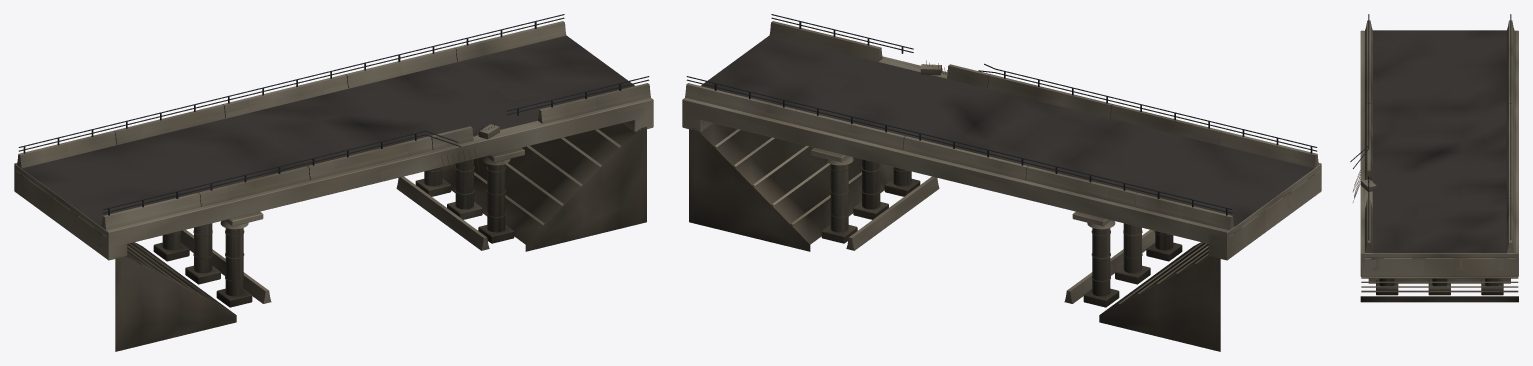
File: overpass_concrete.glb
The picture shows the model from 3 angles, left to right: view 1: azimuth 30°, elevation 25°; view 2: azimuth 150°, elevation 25°; view 3: azimuth 270°, elevation 25°; orthographic projection. The views are drawn at different scales.
Parts seen in each view (by area): view 1: concrete, road_surface, concrete_dark, metal_dark; view 2: concrete, road_surface, concrete_dark, metal_dark; view 3: road_surface, concrete, concrete_dark, metal_dark.
Part boxes in pixels (x1,y1,x2,y2): concrete: [14, 21, 653, 304]; road_surface: [21, 35, 634, 226]; concrete_dark: [115, 123, 646, 351]; metal_dark: [18, 14, 649, 215]; concrete: [682, 21, 1321, 304]; road_surface: [701, 35, 1314, 226]; concrete_dark: [689, 123, 1220, 351]; metal_dark: [686, 14, 1317, 215]; road_surface: [1372, 30, 1506, 253]; concrete: [1360, 20, 1518, 292]; concrete_dark: [1360, 280, 1518, 302]; metal_dark: [1350, 14, 1511, 240].
Size of what is drawn, in the model's own units: 40 by 9.88 by 12.81.
